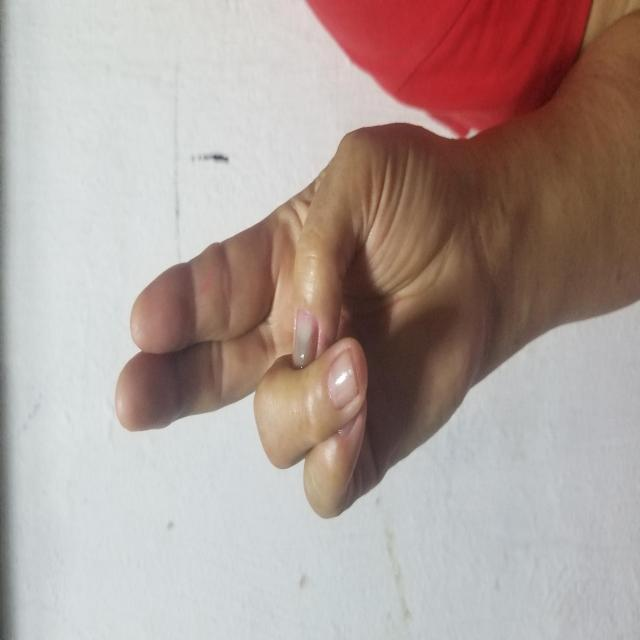R: (119, 114, 521, 469)
